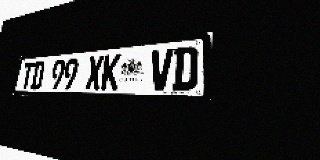9: (61, 57, 79, 90), (49, 59, 66, 90)
D: (172, 46, 198, 90), (30, 61, 45, 90)
K: (100, 53, 121, 90)
T: (20, 62, 35, 90)
V: (149, 48, 173, 90)
X: (85, 55, 104, 90)
